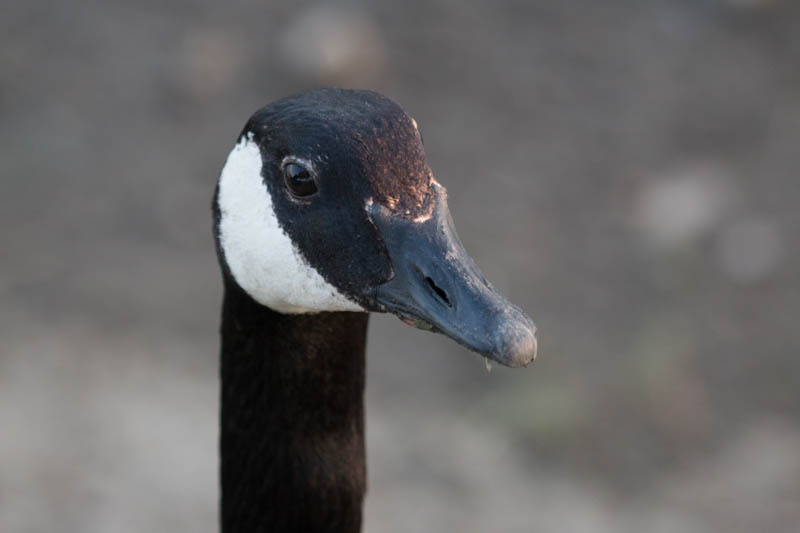goose-head: (210, 87, 539, 367)
